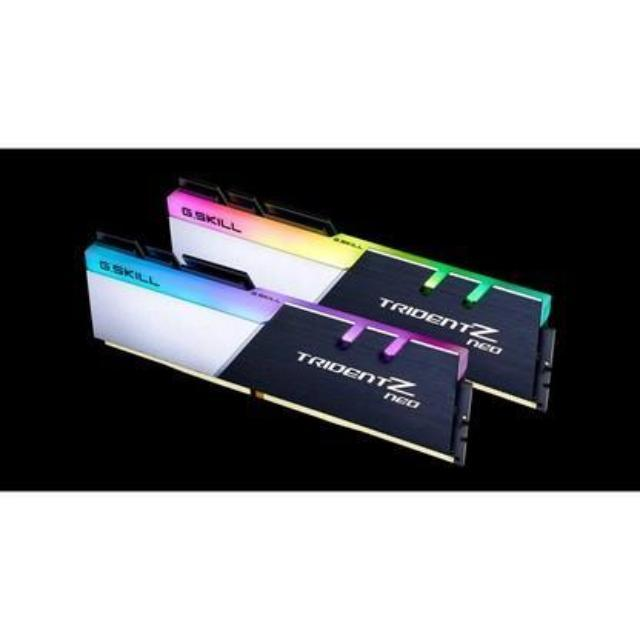RAM: (80, 172, 574, 466)
